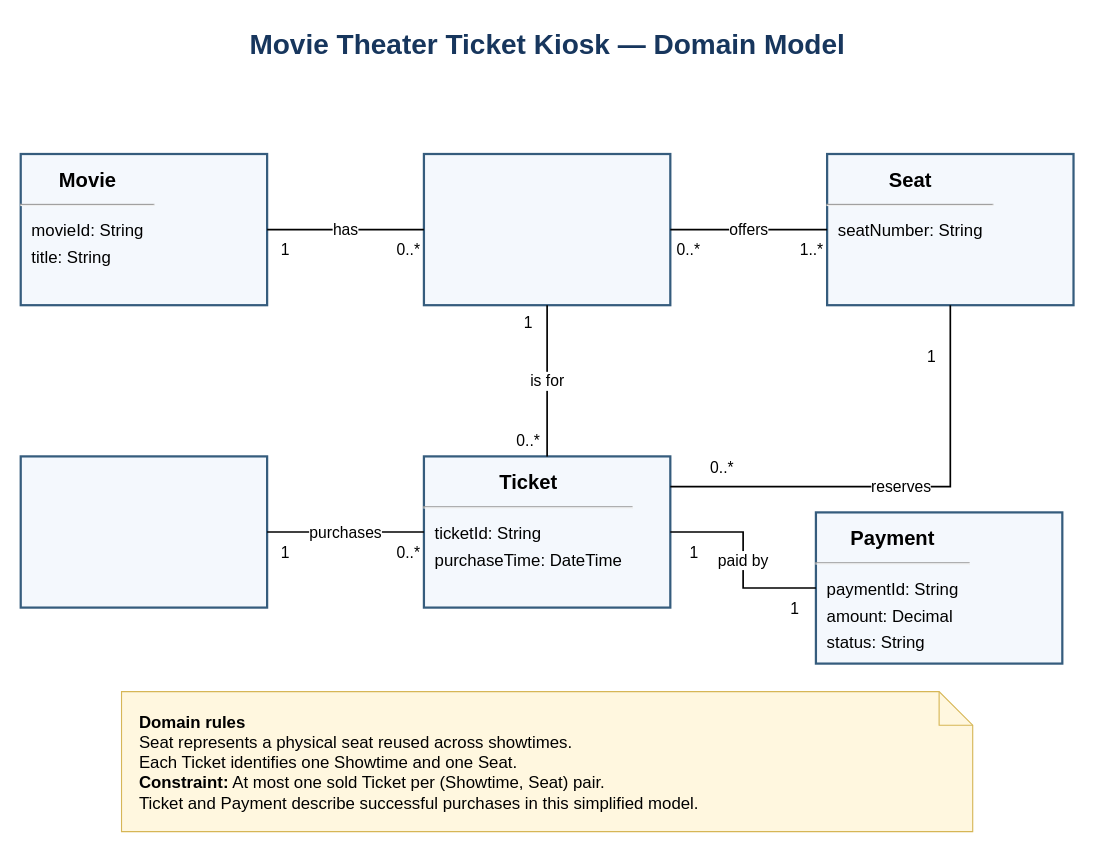
Some shapes in this 1093 by 851 pixel diagram are drawn without their labels. The shapes that lost their labels are listed below. From the top down, each one's box as (x1, y1, x2, y2) in pixels, then its label:
(422, 152, 671, 306): Showtime showtimeId: String startTime: DateTime
(19, 455, 268, 608): Customer customerId: String
